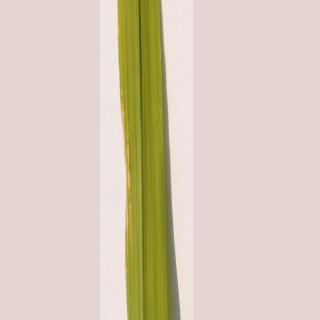Hawar-Daun: (114, 117, 152, 249)
